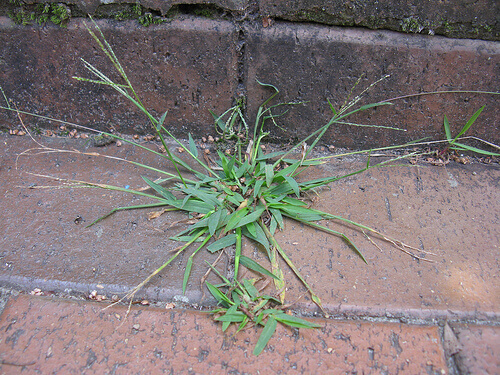crabgrass: (118, 100, 379, 272)
